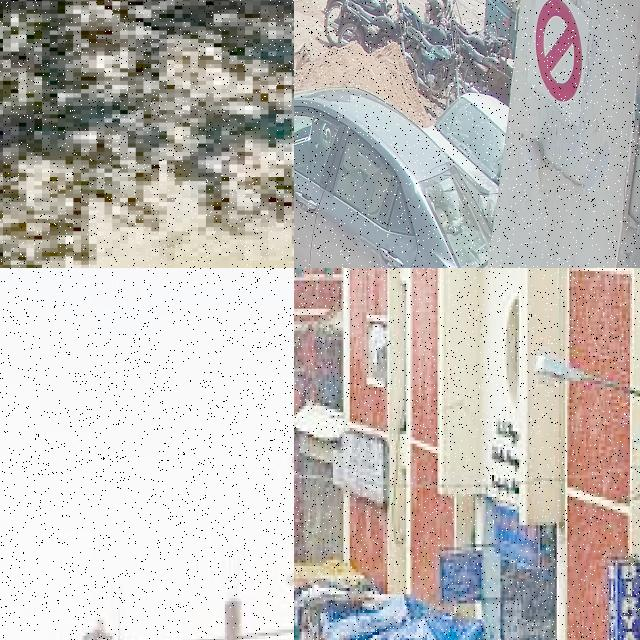bike: (406, 20, 463, 101), (333, 0, 406, 54), (321, 0, 388, 46), (400, 0, 456, 52), (460, 38, 502, 94), (452, 18, 492, 58), (424, 0, 455, 25)
car: (294, 86, 491, 268), (427, 93, 509, 210)
